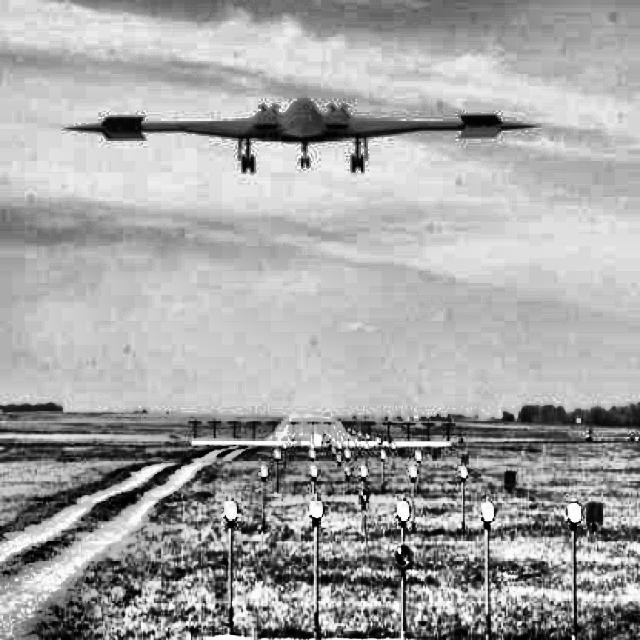B2: (63, 98, 542, 174)
